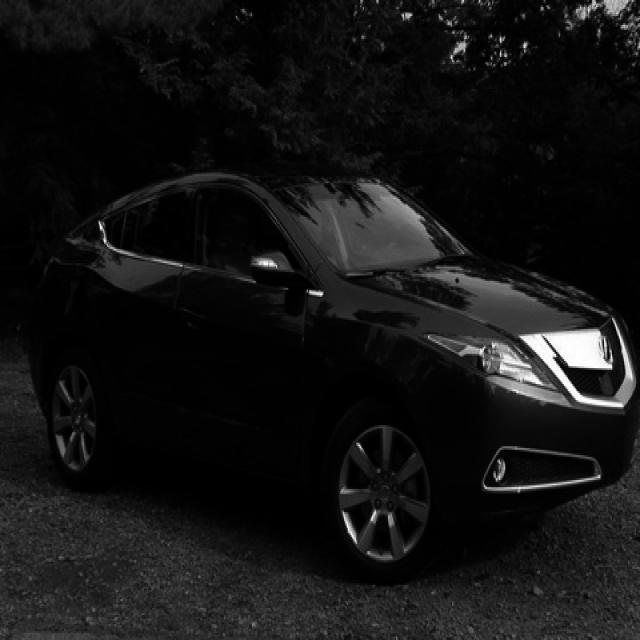car: (26, 167, 638, 585)
